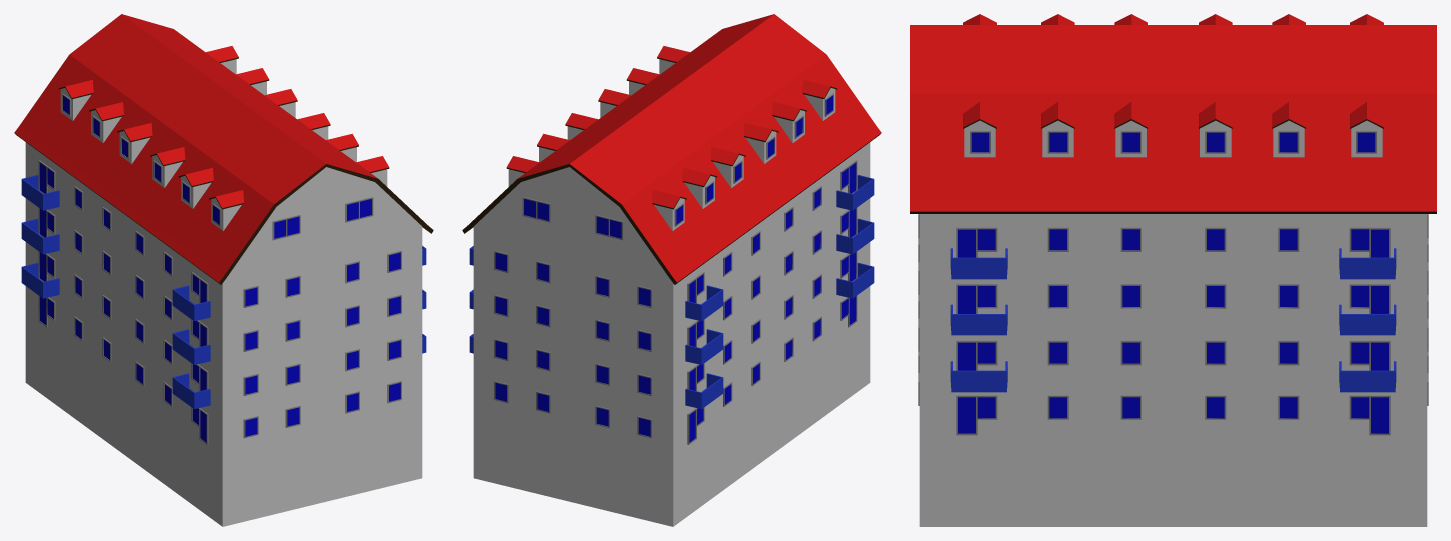
The model's file is house2.obj.
The picture shows the model from 3 angles, left to right: view 1: azimuth 30°, elevation 25°; view 2: azimuth 150°, elevation 25°; view 3: azimuth 270°, elevation 25°; orthographic projection. The views are drawn at different scales.
Visible parts, largest first — view 1: Cube_Cube.001, Windows_Plane.003; view 2: Cube_Cube.001, Windows_Plane.003; view 3: Cube_Cube.001, Windows_Plane.003.
Part boxes in pixels (x1,y1,x2,y2): Cube_Cube.001: (14,14,433,526); Windows_Plane.003: (38,93,401,444); Cube_Cube.001: (462,14,881,526); Windows_Plane.003: (494,93,857,444); Cube_Cube.001: (910,14,1436,526); Windows_Plane.003: (918,131,1428,435).
Size of the model in its own units: 16.79 by 23.59 by 25.65.
